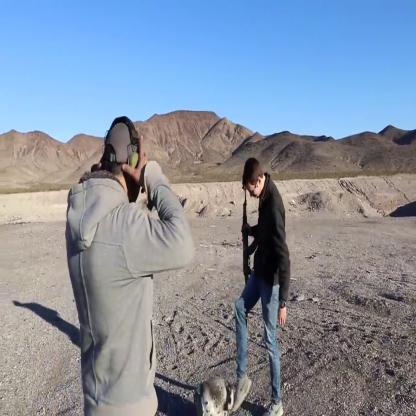long weapon: (238, 180, 260, 296)
